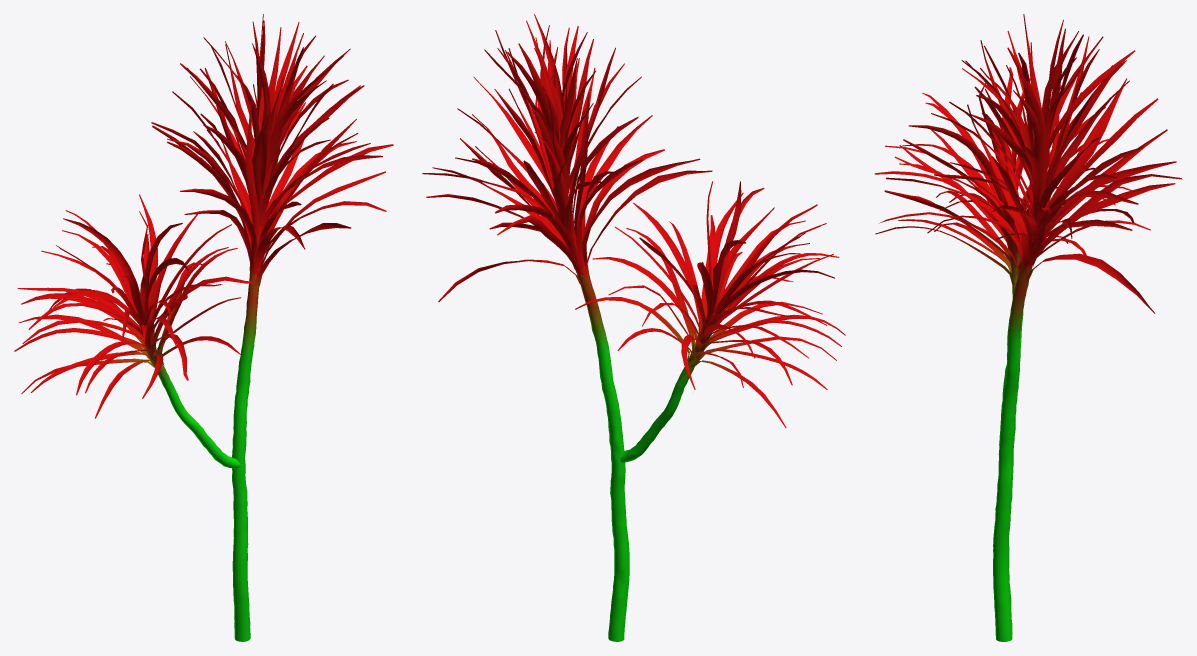
File: Dragon Tree_LOD1_Var2_wfypejzha.fbx
3 views of the same model, side by side, from view 1: azimuth 30°, elevation 25°; view 2: azimuth 150°, elevation 25°; view 3: azimuth 270°, elevation 25° (orthographic). The views are drawn at different scales.
Parts seen in each view (by area): view 1: _0xsi_Var2_LOD1; view 2: _0xsi_Var2_LOD1; view 3: _0xsi_Var2_LOD1.
Part boxes in pixels (x1=…): _0xsi_Var2_LOD1: x1=14, y1=14, x2=393, y2=641; _0xsi_Var2_LOD1: x1=422, y1=14, x2=845, y2=641; _0xsi_Var2_LOD1: x1=874, y1=14, x2=1182, y2=641.
Size of the model in its own units: 58.69 by 92.92 by 40.78.
